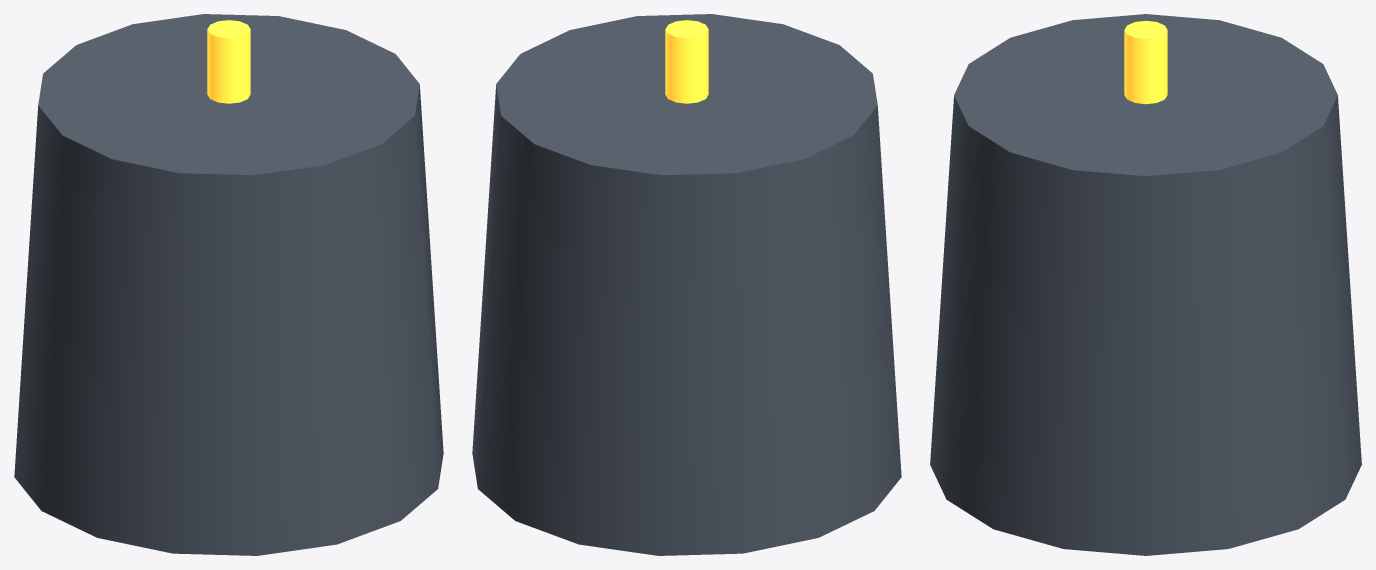
Rendered from bomb_planted.glb.
3 renders of one model, left to right at view 1: azimuth 30°, elevation 25°; view 2: azimuth 150°, elevation 25°; view 3: azimuth 270°, elevation 25°, orthographic.
Visible parts, largest first — view 1: body, fuse; view 2: body, fuse; view 3: body, fuse.
Boxes of the visible parts, x1,y1,x2,y2 form: body: (14,14,443,555); fuse: (207,20,250,103); body: (472,14,901,555); fuse: (665,20,708,103); body: (930,14,1361,555); fuse: (1124,20,1167,104).
Size of the model in its own units: 0.36 by 0.4 by 0.36.
